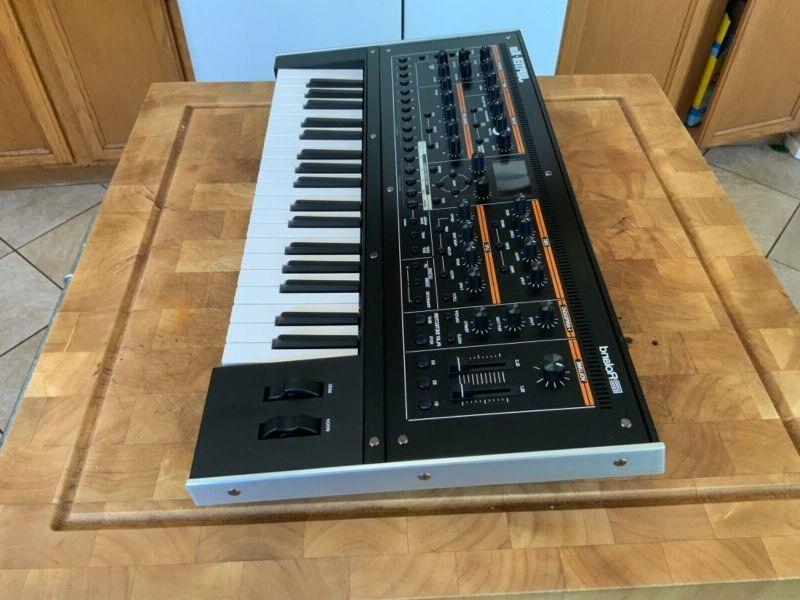synthesizer: (174, 28, 677, 505)
